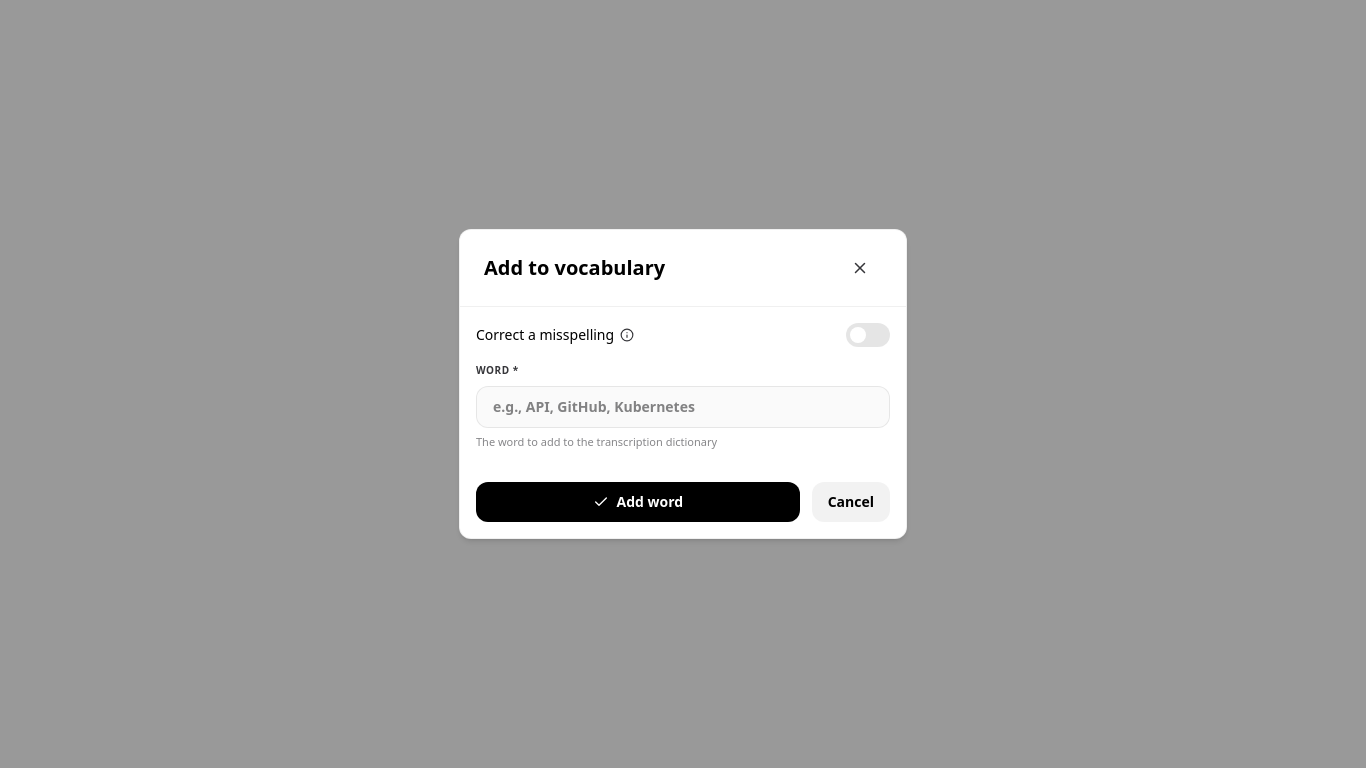
Scenario: AddWordModal › should toggle correction mode and show misspelling fields
This screenshot has width=1366, height=768.
Click the correction toggle switch
Step 1. Click the switch → (868, 335), box [846,323,890,347]
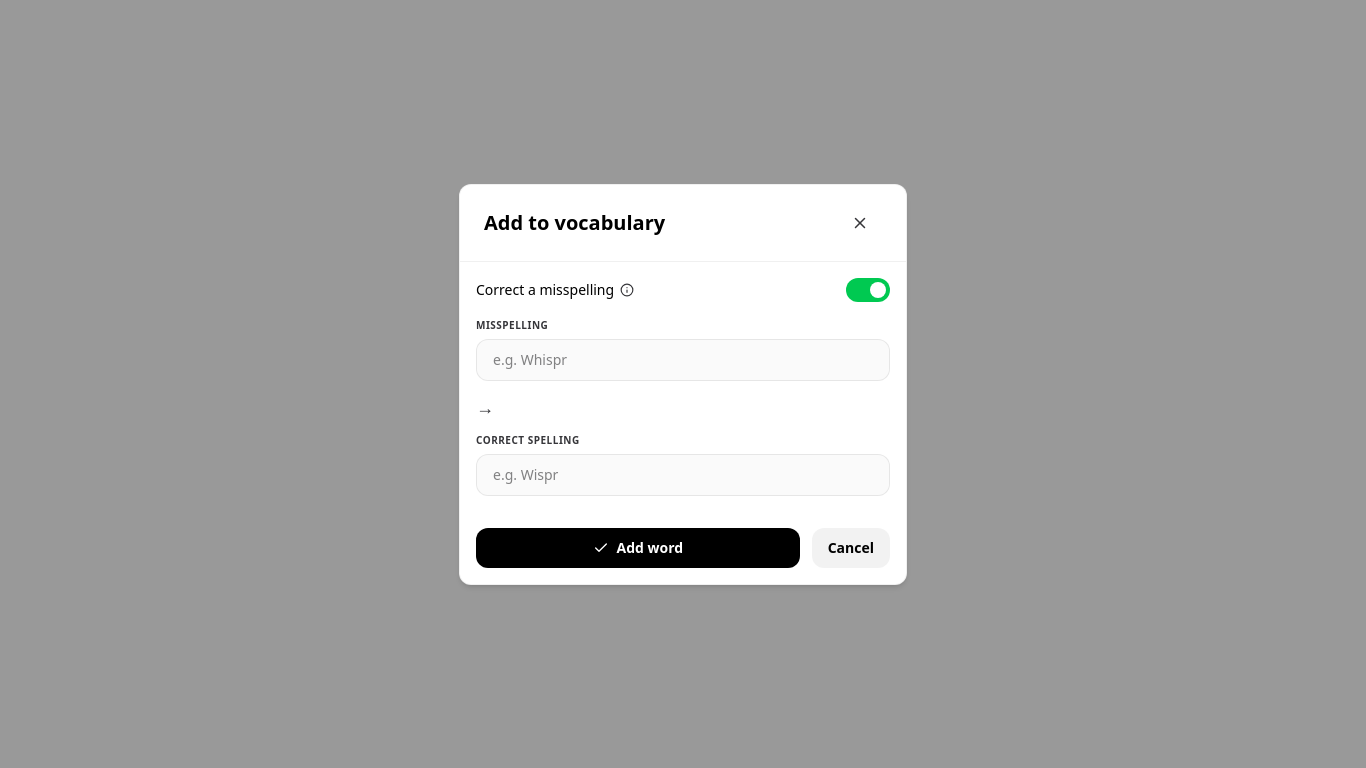
Check: the field with placeholder "e.g. Whispr" is shown, box [476,338,890,380]
Check: the field with placeholder "e.g. Wispr" is shown, box [476,454,890,496]
